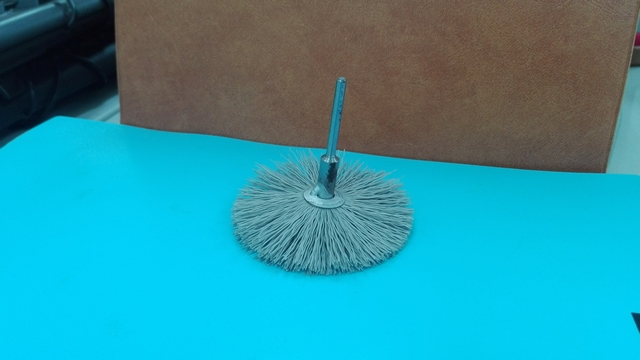TOOL: (186, 54, 428, 302), (220, 66, 426, 283), (205, 144, 485, 289)
